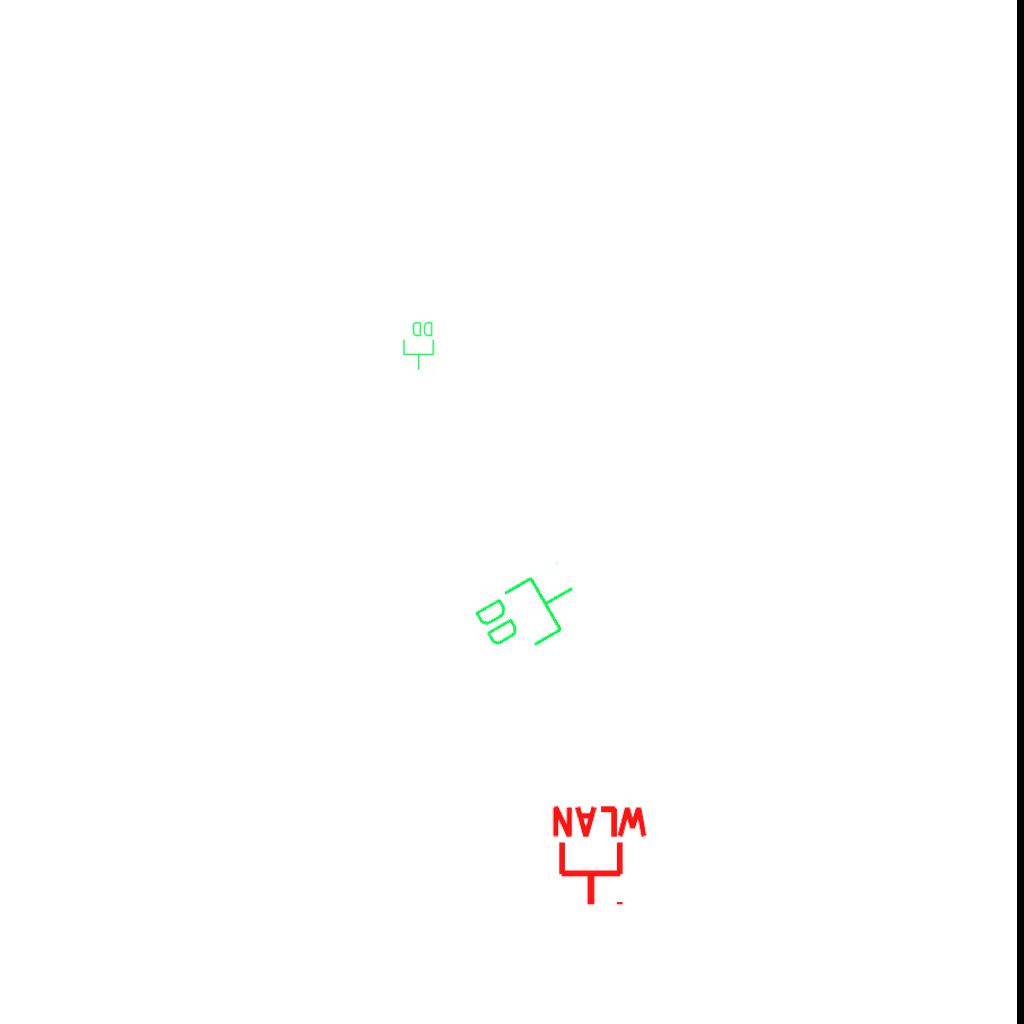Datenanschluss_zweifach: (467, 556, 592, 669), (402, 320, 436, 371)
WLAN: (548, 804, 652, 909)
